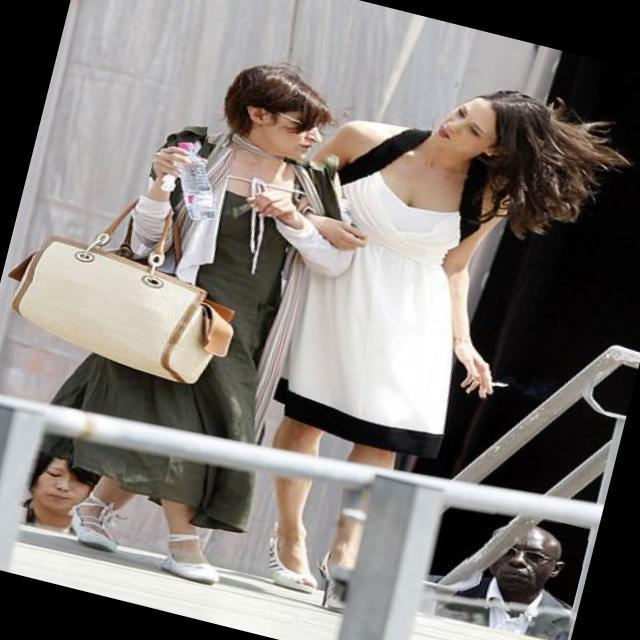cigarette: (468, 361, 520, 408)
